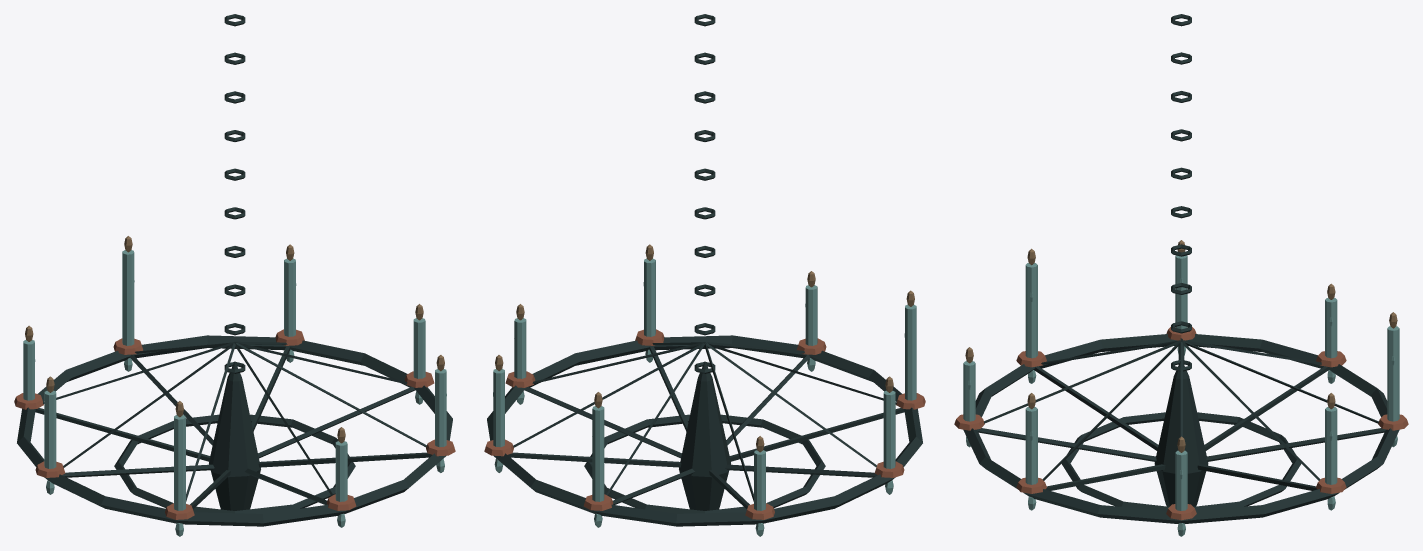
The model's file is candelabru_jean.glb.
3 renders of one model, left to right at view 1: azimuth 30°, elevation 25°; view 2: azimuth 150°, elevation 25°; view 3: azimuth 270°, elevation 25°, orthographic.
Parts seen in each view (by area): view 1: Candelabru, Flacara; view 2: Candelabru, Flacara; view 3: Candelabru, Flacara.
Boxes of the visible parts, bbox=[...] form: Candelabru: bbox=[14, 14, 455, 536]; Flacara: bbox=[25, 236, 444, 443]; Candelabru: bbox=[484, 14, 925, 536]; Flacara: bbox=[495, 244, 914, 452]; Candelabru: bbox=[954, 14, 1408, 536]; Flacara: bbox=[965, 240, 1397, 452].
Size of the model in its own units: 1.18 by 1.43 by 1.18.
